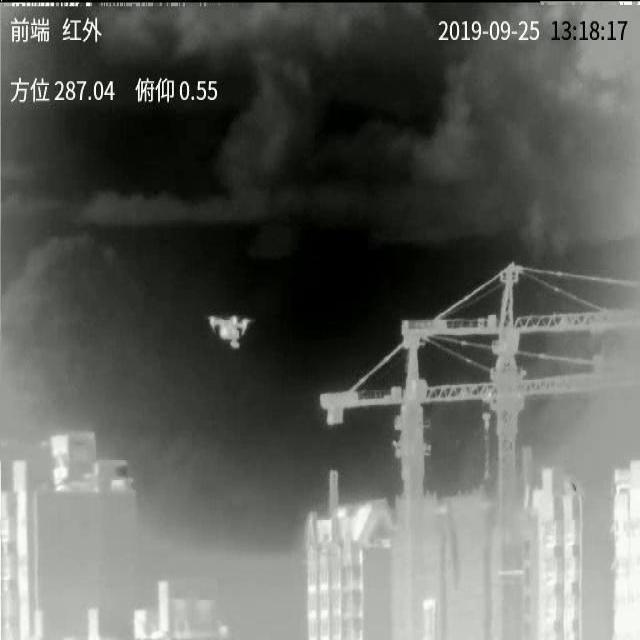drone: (207, 315, 253, 349)
